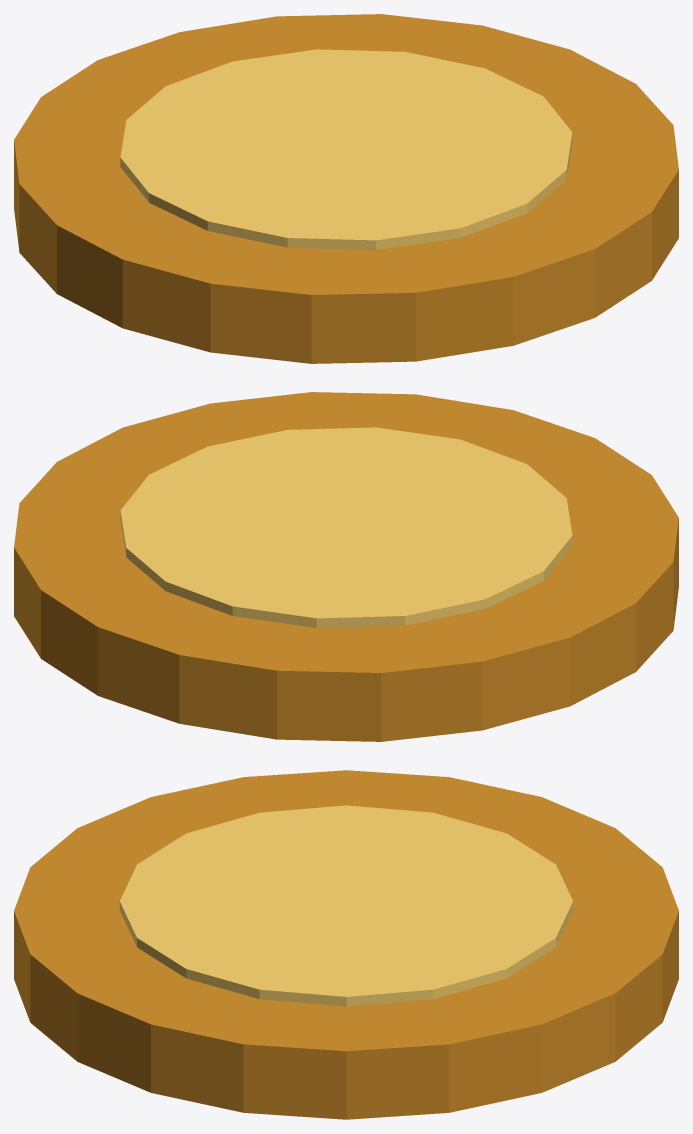
The model's file is coin.glb.
3 views of the same model, one above another, from view 1: azimuth 30°, elevation 25°; view 2: azimuth 150°, elevation 25°; view 3: azimuth 270°, elevation 25° (orthographic).
Visible parts, largest first — view 1: Coin; view 2: Coin; view 3: Coin.
Part boxes in pixels (x1,y1,x2,y2): Coin: (14,14,678,363); Coin: (14,392,678,741); Coin: (14,770,678,1119).
Bounding box in the file's own units: 0.44 × 0.057 × 0.44.
